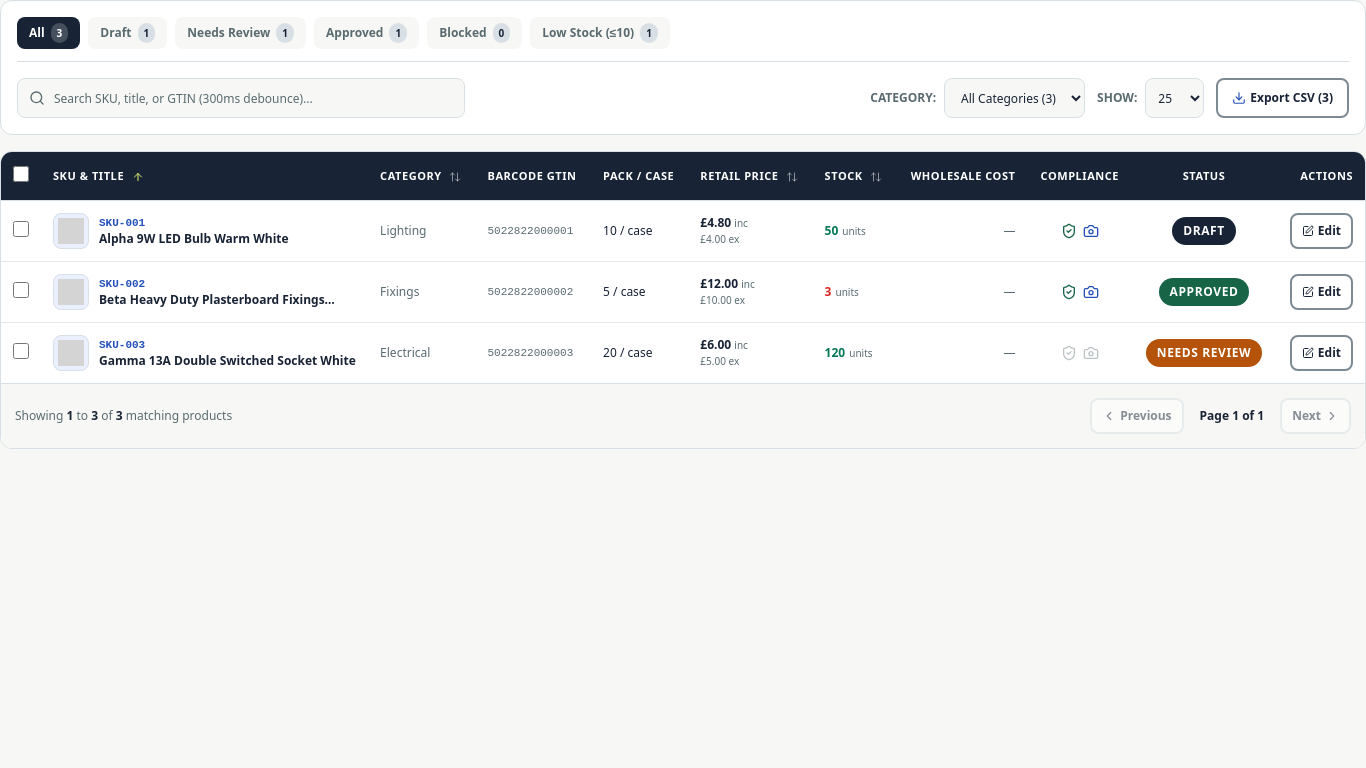
Test case: ToolCart Retail Admin Portal Hardening & Verification Suite › Feature 5 & 6: ProductTable Headless Primitives, Sorting & Bulk Actions › enables row selection and reveals the floating BulkActionBar
The width and height of the screenshot is (1366, 768).
Click the checkbox named "select product sku-001".
click(21, 229)  # box top-left (13, 221), bottom-right (29, 237)
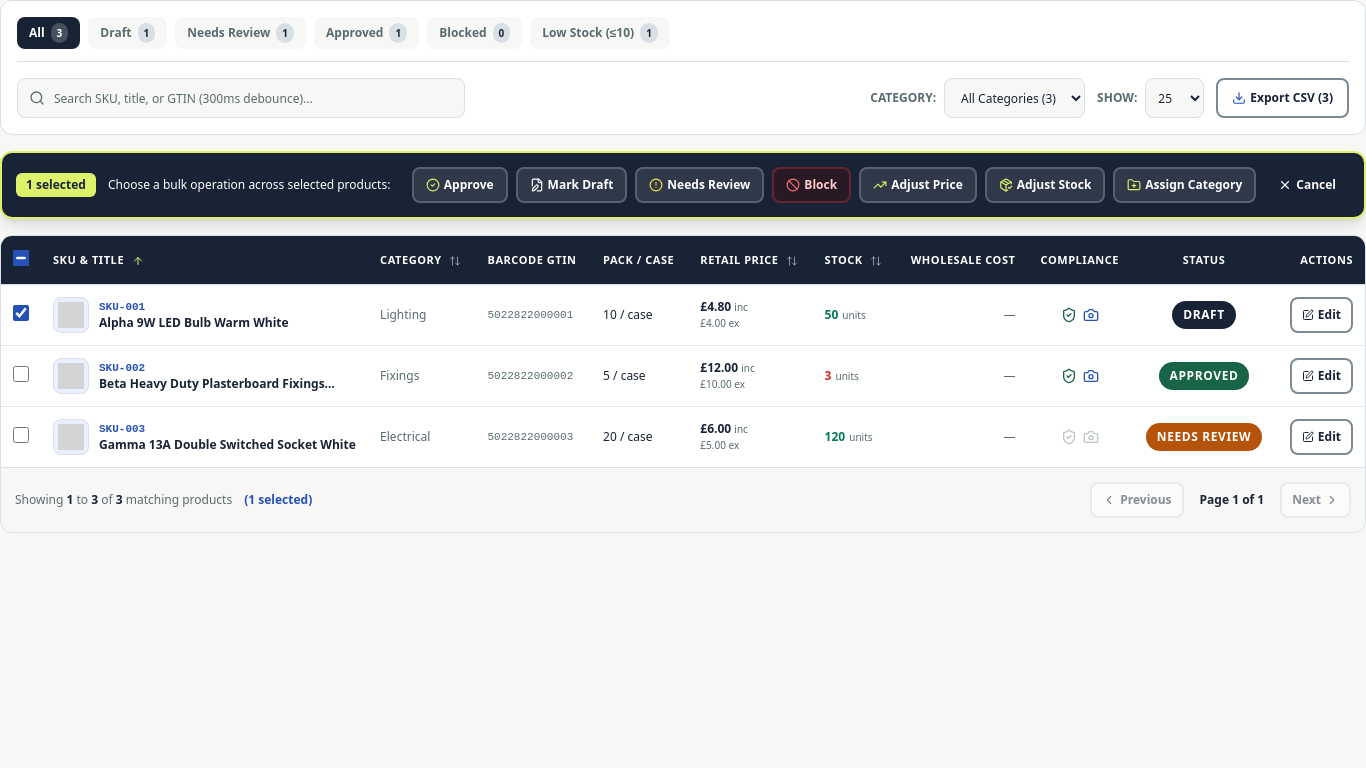
Expected: the element named "bulk actions bar" is shown, top-left (0, 151), bottom-right (1365, 219)
Expected: the text "1 selected" is shown, top-left (16, 173), bottom-right (96, 197)
Expected: the button "Approve" is shown, top-left (412, 167), bottom-right (508, 203)
